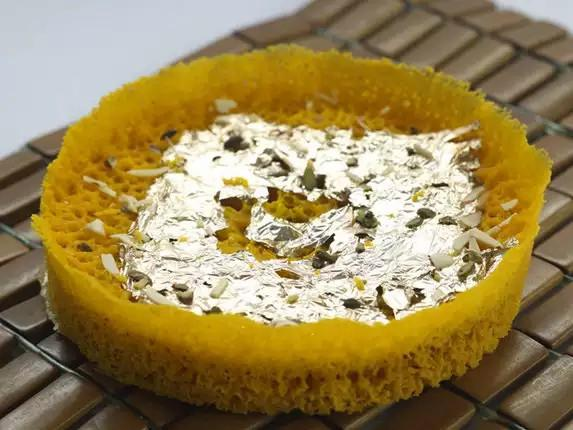Ghevar: (29, 41, 556, 413)
